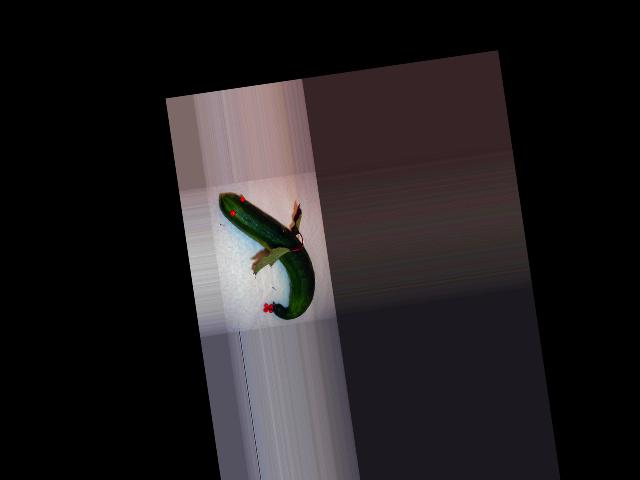cucumber: (217, 183, 320, 327)
